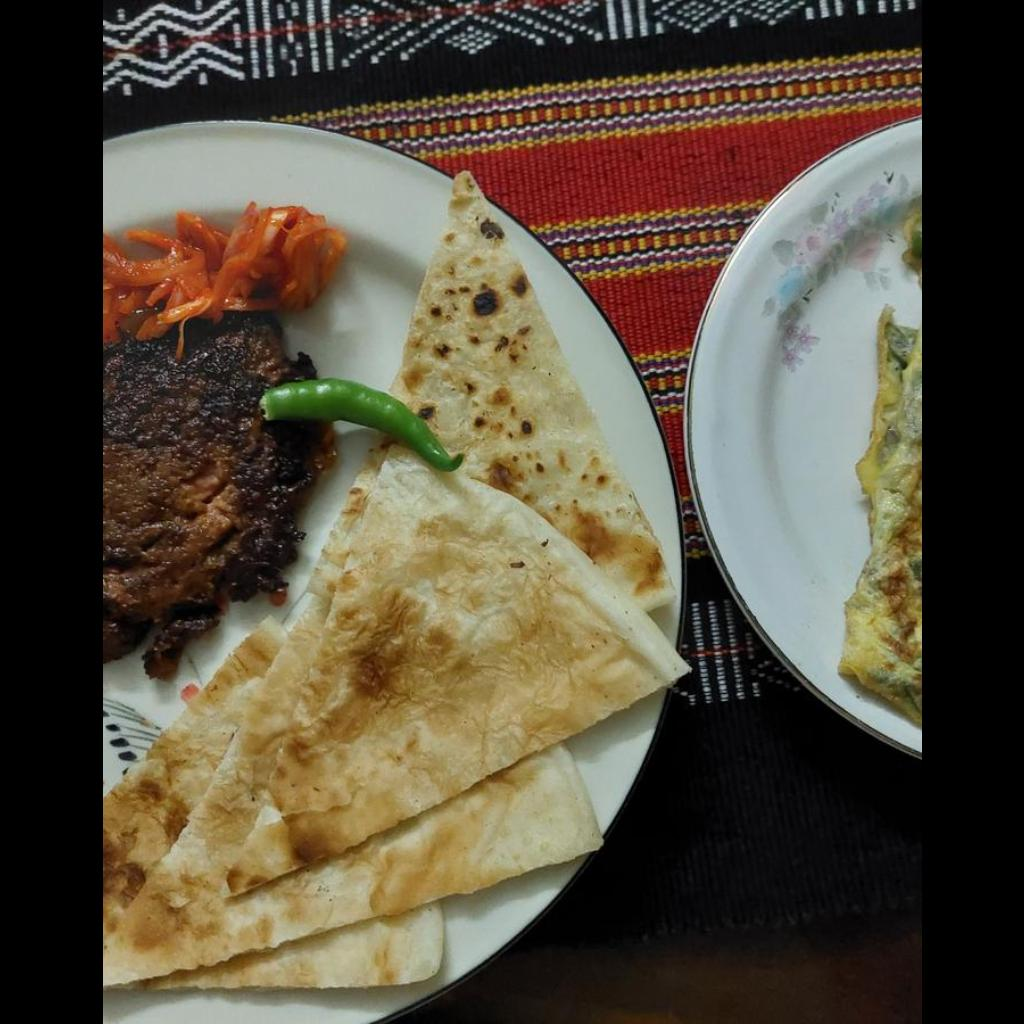egg-poached: (837, 309, 920, 726)
kabab: (107, 318, 342, 673)
ruti: (102, 173, 689, 983)
salad: (102, 209, 341, 339)
